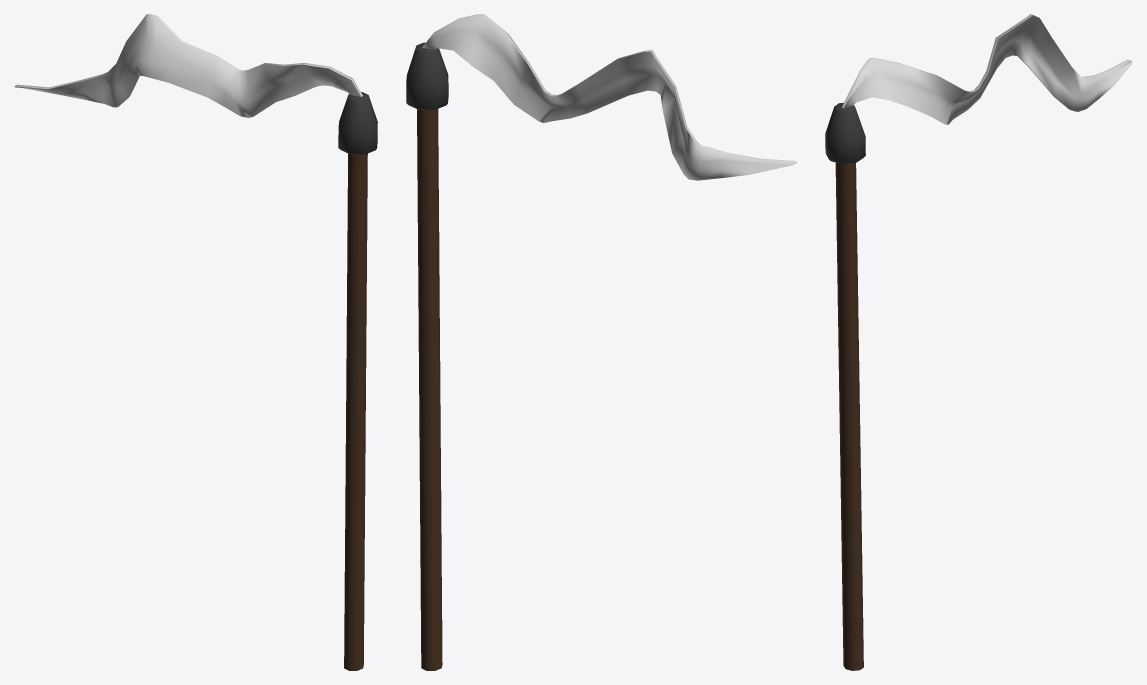
Rendered from FlagPole_01.fbx.
3 views of the same model, side by side, from view 1: azimuth 30°, elevation 25°; view 2: azimuth 210°, elevation 25°; view 3: azimuth 270°, elevation 25° (orthographic). The views are drawn at different scales.
Parts seen in each view (by area): view 1: Cube.003; view 2: Cube.003; view 3: Cube.003.
Part boxes in pixels (bbox=[...]): Cube.003: bbox=[14, 14, 377, 670]; Cube.003: bbox=[406, 14, 796, 670]; Cube.003: bbox=[825, 14, 1132, 670].
Bounding box in the file's own units: 217 × 586 × 273.
